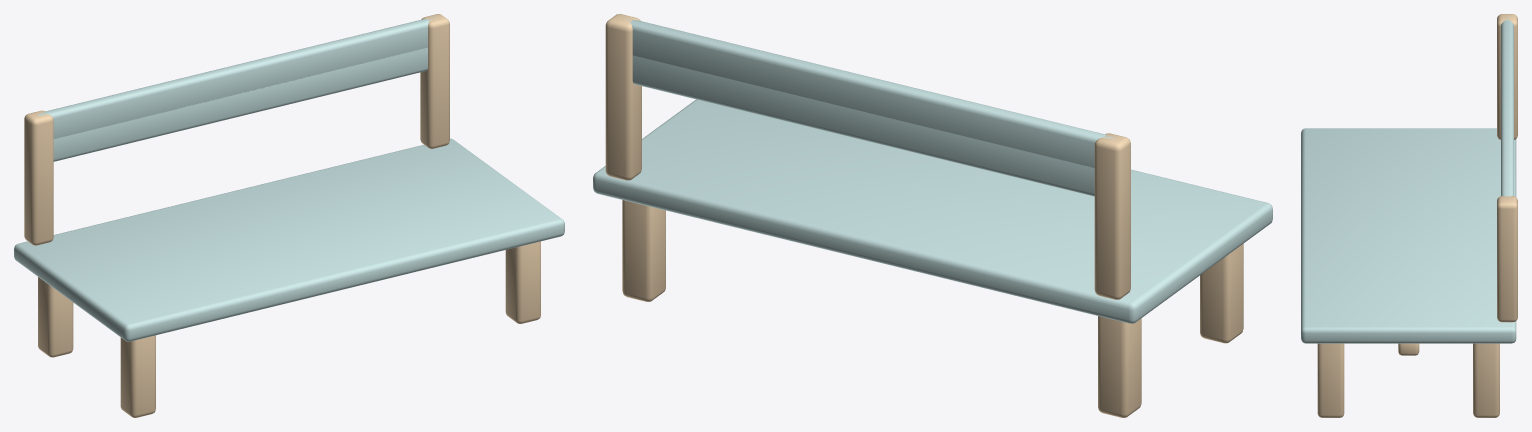
Rendered from Fur_Bench.fbx.
3 renders of one model, left to right at view 1: azimuth 30°, elevation 25°; view 2: azimuth 150°, elevation 25°; view 3: azimuth 270°, elevation 25°, orthographic. The views are drawn at different scales.
Parts seen in each view (by area): view 1: Fur_Bench; view 2: Fur_Bench; view 3: Fur_Bench.
Part boxes in pixels (x1,y1,x2,y2): Fur_Bench: (14,14,564,417); Fur_Bench: (593,14,1272,417); Fur_Bench: (1301,14,1517,417).
Size of the model in its own units: 0.8 by 0.4 by 0.3625.
